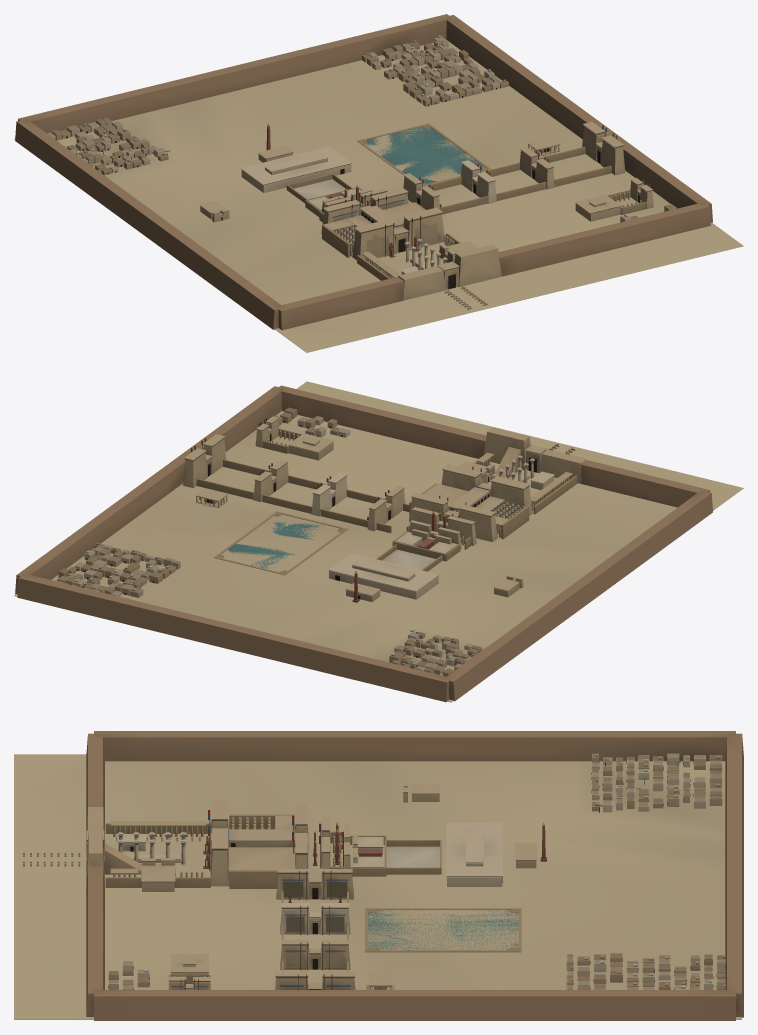
The model's file is karnak-late.glb.
3 renders of one model, top to bottom at view 1: azimuth 30°, elevation 25°; view 2: azimuth 150°, elevation 25°; view 3: azimuth 270°, elevation 25°, orthographic. The views are drawn at different scales.
Parts seen in each view (by area): view 1: p0_lake, p1_pylons, p3_town, p2_hypostyle; view 2: p0_lake, p1_pylons, p3_town, p2_hypostyle; view 3: p0_lake, p1_pylons, p3_town, p2_hypostyle.
Boxes of the visible parts, box(x1,y1,x2,y2) form: p0_lake: box(14, 14, 743, 352); p1_pylons: box(200, 121, 653, 300); p3_town: box(47, 35, 676, 309); p2_hypostyle: box(322, 191, 641, 278); p0_lake: box(14, 381, 743, 702); p1_pylons: box(183, 416, 586, 601); p3_town: box(57, 407, 575, 676); p2_hypostyle: box(267, 430, 572, 539); p0_lake: box(14, 731, 743, 1020); p1_pylons: box(86, 782, 536, 989); p3_town: box(23, 753, 725, 989); p2_hypostyle: box(110, 814, 295, 976).
Size of the model in its own units: 503 by 35.43 by 582.
